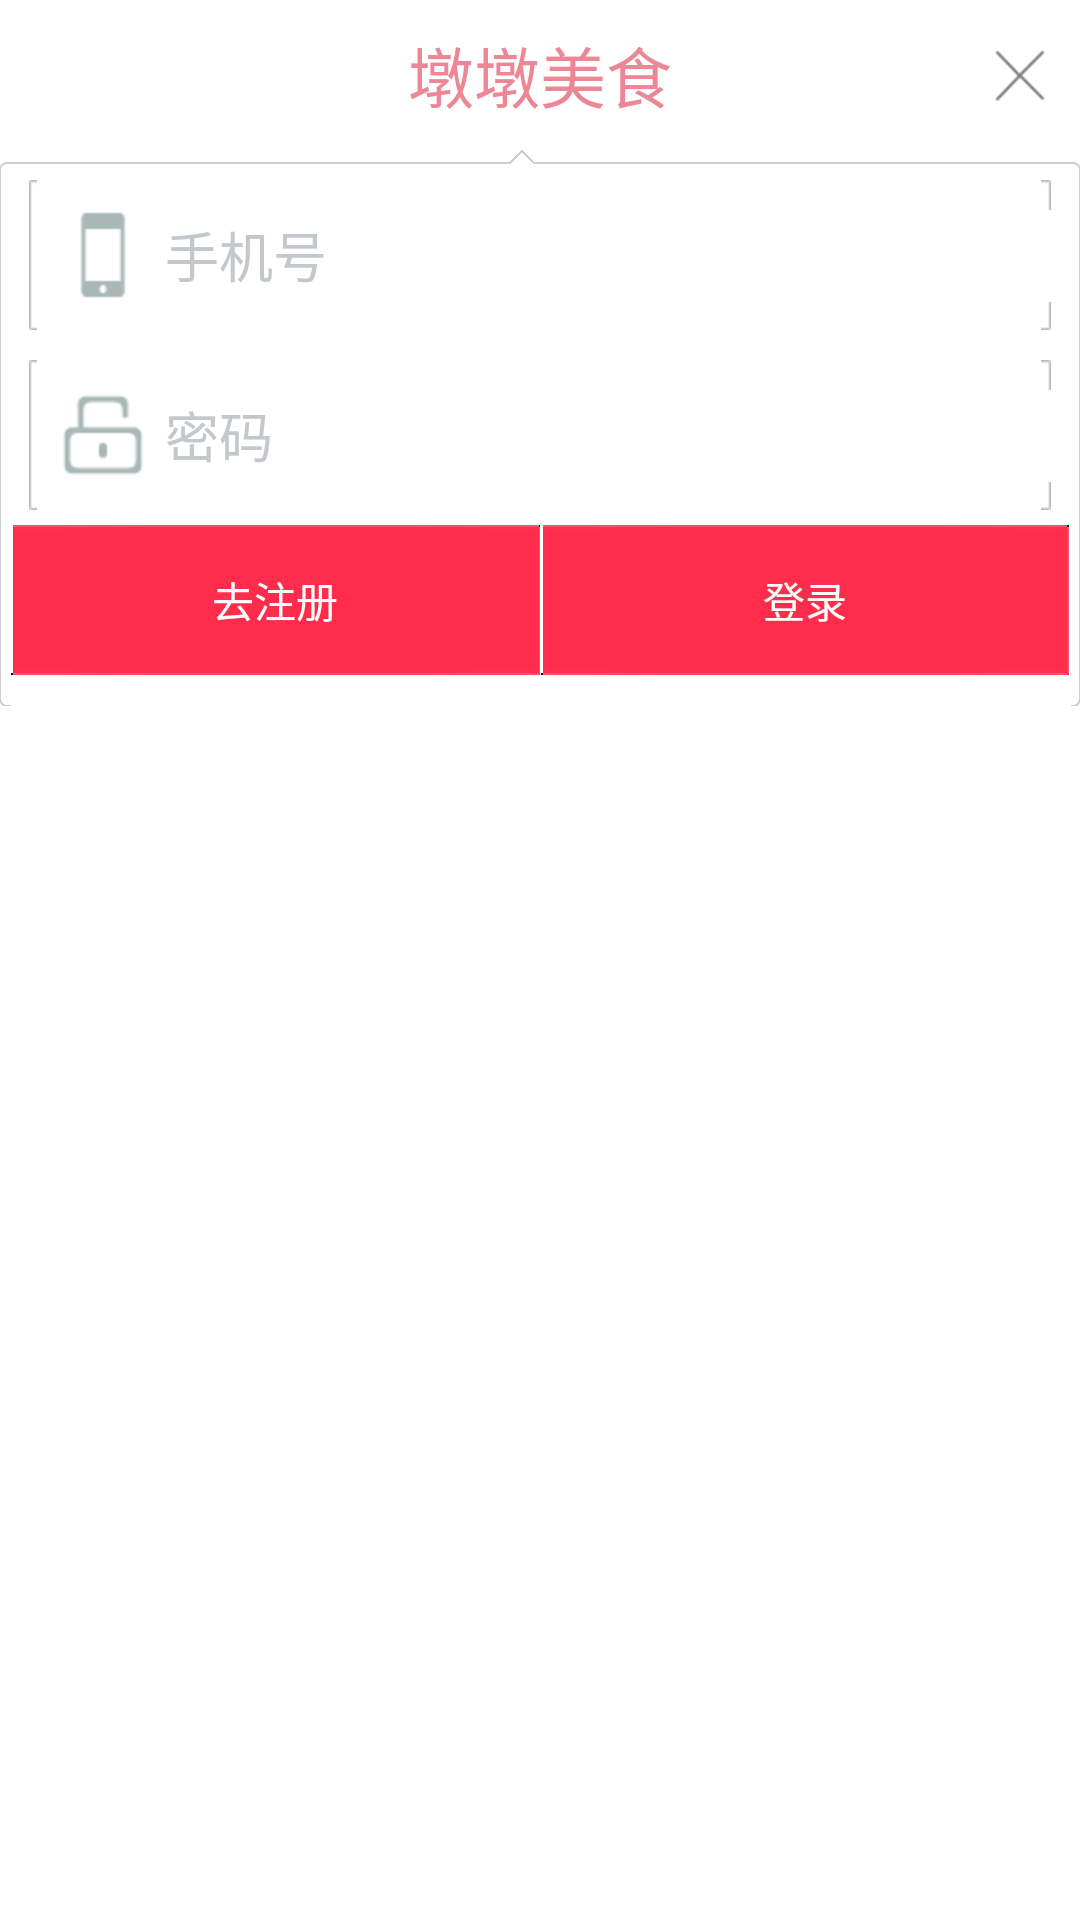

Screen size 1080w x 1920h. Icon name, then its center in pixels as (x,y):
waimai shopmenu dish close: (1020,76)
